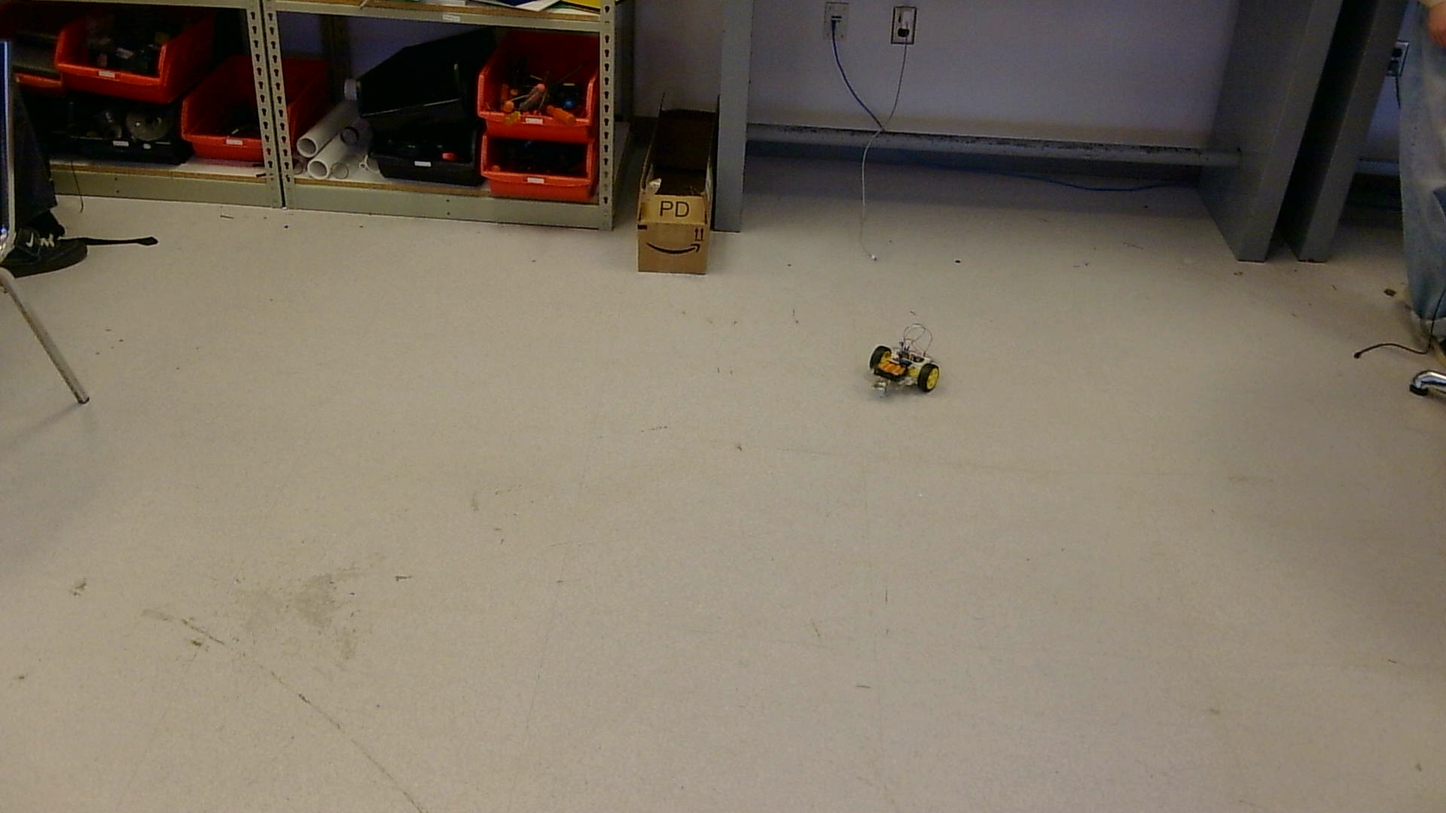robot: (868, 324, 940, 393)
